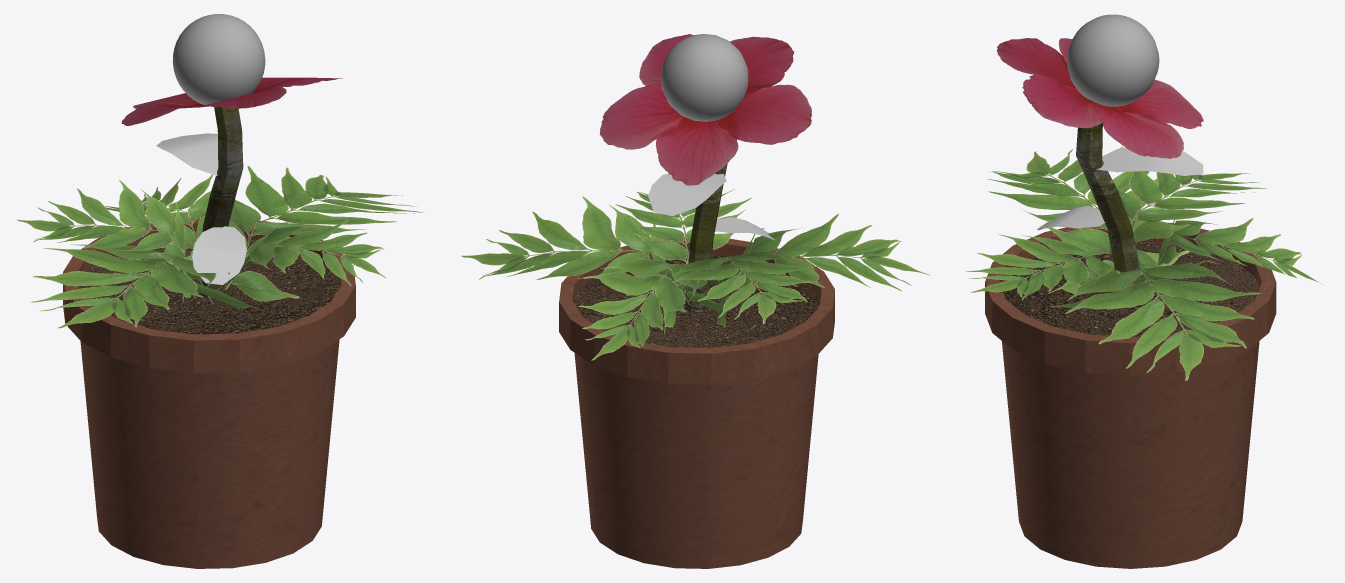
The model's file is smolflowa.fbx.
3 views of the same model, side by side, from view 1: azimuth 30°, elevation 25°; view 2: azimuth 150°, elevation 25°; view 3: azimuth 270°, elevation 25° (orthographic). The views are drawn at different scales.
Visible parts, largest first — view 1: pCylinder10, pPlane67, pPlane71, pSphere5, pPlane72, pPlane70, pCylinder9, pPlane65, pPlane68, pPlane69, pPlane66; view 2: pCylinder10, pPlane65, pPlane71, pPlane69, pSphere5, pPlane67, pPlane72, pPlane70, pPlane66, pCylinder9, pPlane68; view 3: pCylinder10, pPlane71, pPlane65, pSphere5, pPlane67, pPlane72, pPlane70, pPlane69, pCylinder9, pPlane66, pPlane68.
Part boxes in pixels (x1=…): pCylinder10: x1=63, y1=217, x2=355, y2=568; pPlane67: x1=30, y1=244, x2=263, y2=328; pPlane71: x1=225, y1=165, x2=423, y2=301; pSphere5: x1=172, y1=14, x2=265, y2=107; pPlane72: x1=17, y1=180, x2=213, y2=303; pPlane70: x1=218, y1=220, x2=385, y2=293; pCylinder9: x1=198, y1=107, x2=243, y2=296; pPlane65: x1=121, y1=77, x2=342, y2=125; pPlane68: x1=192, y1=226, x2=246, y2=284; pPlane69: x1=104, y1=174, x2=247, y2=270; pPlane66: x1=156, y1=133, x2=218, y2=175; pCylinder10: x1=559, y1=237, x2=834, y2=568; pPlane65: x1=599, y1=34, x2=811, y2=185; pPlane71: x1=461, y1=196, x2=687, y2=334; pPlane69: x1=579, y1=253, x2=733, y2=360; pSphere5: x1=661, y1=34, x2=748, y2=121; pPlane67: x1=716, y1=213, x2=930, y2=327; pPlane72: x1=672, y1=249, x2=816, y2=324; pPlane70: x1=615, y1=189, x2=751, y2=302; pPlane66: x1=648, y1=173, x2=726, y2=216; pCylinder9: x1=685, y1=164, x2=727, y2=312; pPlane68: x1=715, y1=217, x2=775, y2=240; pCylinder10: x1=985, y1=222, x2=1276, y2=568; pPlane71: x1=1050, y1=260, x2=1260, y2=380; pPlane65: x1=997, y1=38, x2=1203, y2=158; pSphere5: x1=1067, y1=14, x2=1159, y2=106; pPlane67: x1=988, y1=146, x2=1189, y2=293; pPlane72: x1=1099, y1=171, x2=1266, y2=272; pPlane70: x1=965, y1=234, x2=1120, y2=300; pPlane69: x1=1142, y1=218, x2=1322, y2=285; pCylinder9: x1=1076, y1=123, x2=1140, y2=291; pPlane66: x1=1096, y1=147, x2=1203, y2=175; pPlane68: x1=1037, y1=205, x2=1104, y2=230.
Bounding box in the file's own units: 2.06 × 2.31 × 1.53.
